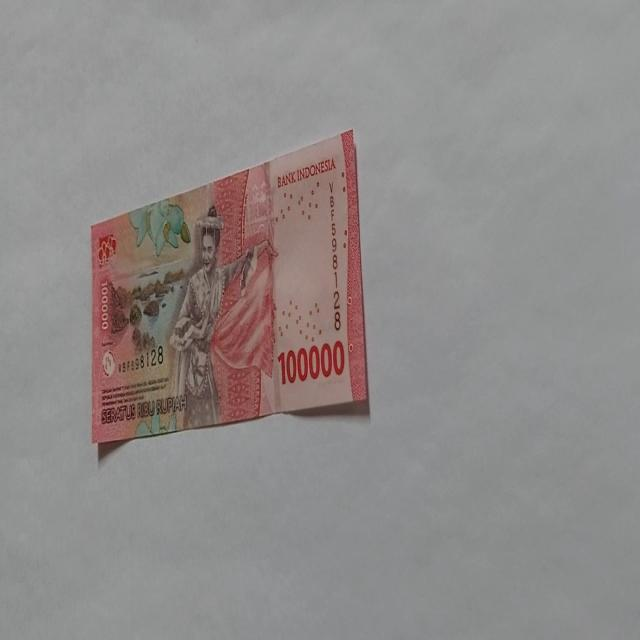seratus ribu rupiah: (90, 127, 370, 445), (168, 204, 262, 428)
